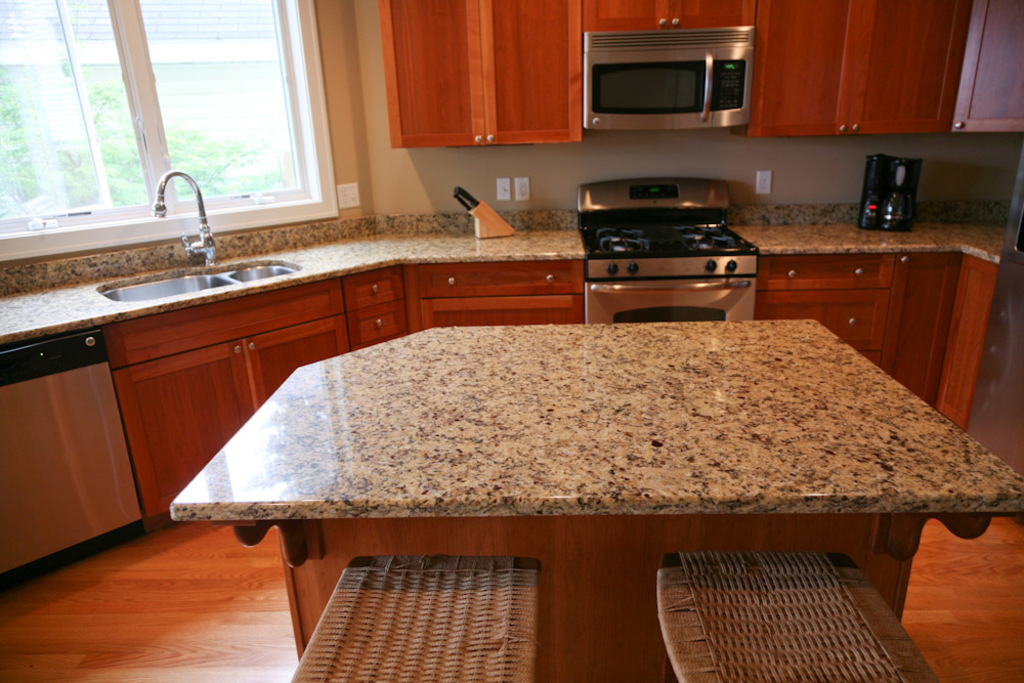cabinet door: (131, 351, 249, 497), (388, 5, 481, 147), (484, 10, 579, 142), (859, 5, 956, 130), (754, 7, 849, 129), (959, 15, 1024, 131), (889, 248, 939, 380), (414, 265, 578, 295), (248, 332, 342, 380), (764, 258, 878, 292), (777, 301, 881, 338), (665, 3, 751, 33), (587, 3, 665, 34), (350, 275, 397, 305), (354, 311, 402, 338)
handle: (701, 53, 719, 122), (891, 248, 921, 268), (441, 275, 470, 293), (665, 9, 686, 33), (649, 8, 671, 30), (246, 333, 265, 355), (538, 269, 559, 288), (783, 267, 803, 286), (226, 336, 243, 358), (951, 118, 970, 135), (366, 282, 386, 298), (846, 262, 867, 277), (845, 307, 859, 329), (836, 112, 850, 134), (370, 314, 387, 332), (474, 125, 486, 148), (486, 131, 500, 149), (852, 118, 863, 134)
